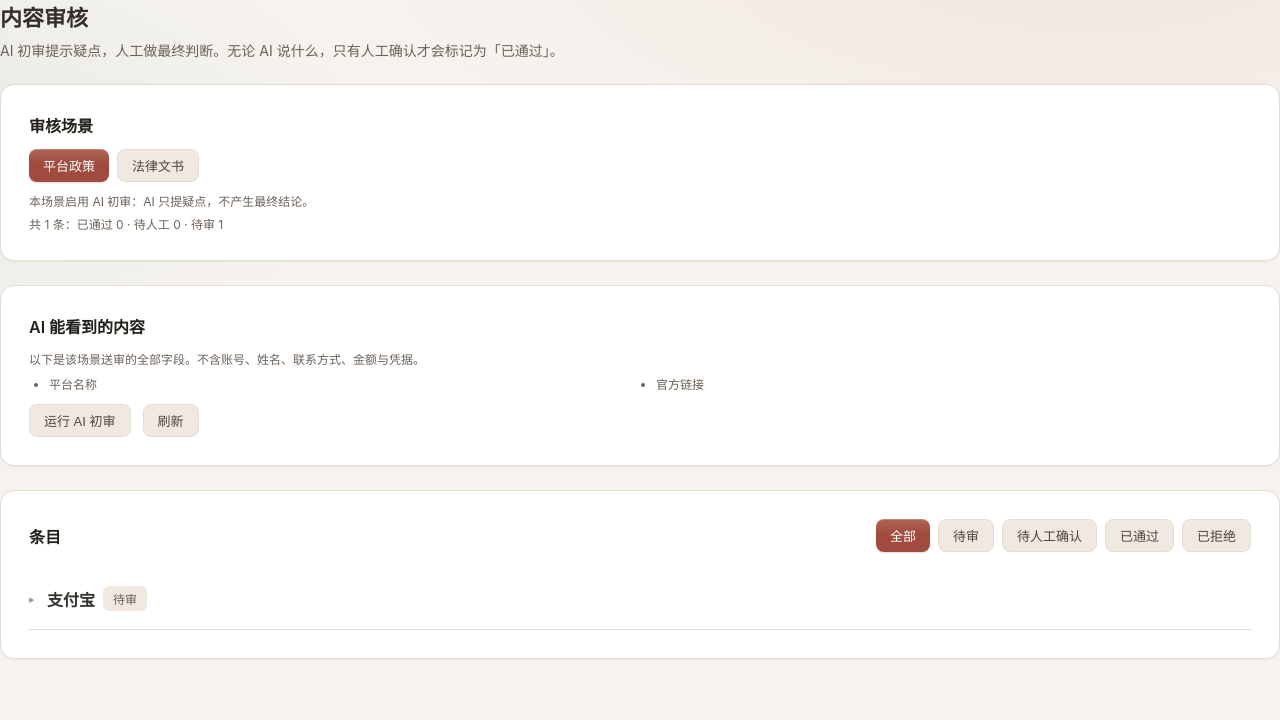
审核场景与送审字段 › 严格场景显示严格模式说明与必检项
Click the tab "法律文书": {"x": 158, "y": 166} x1=117 y1=149 x2=199 y2=182
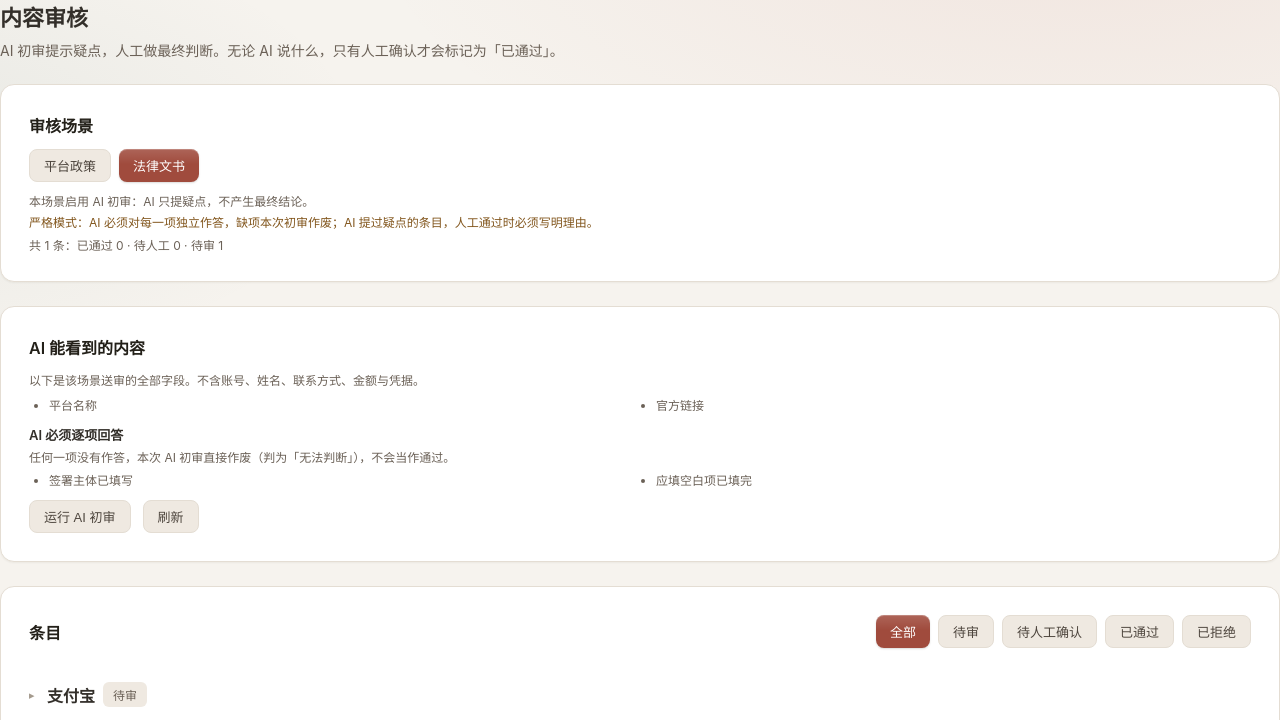
Expected: the text "严格模式" is shown, x1=29 y1=215 x2=599 y2=230
Expected: the text "签署主体已填写" is shown, x1=49 y1=473 x2=133 y2=488
Expected: the text "缺项本次初审作废" is shown, x1=29 y1=215 x2=599 y2=230
